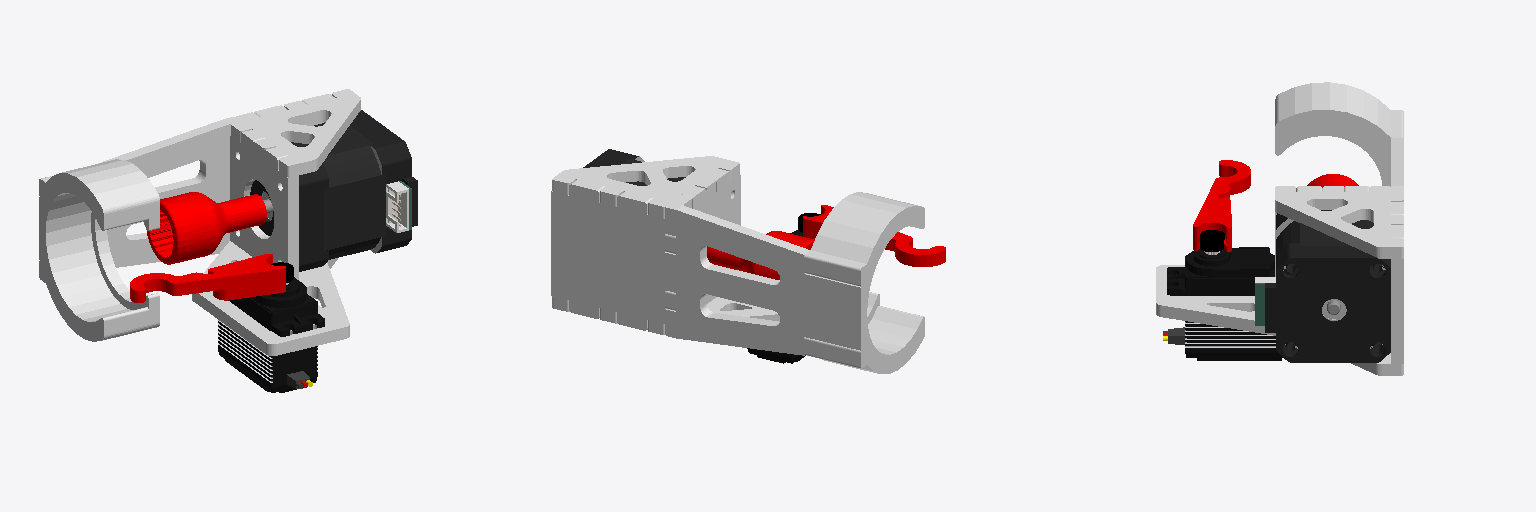
Rendered from combo_cracker.obj.
3 views of the same model, side by side, from view 1: azimuth 30°, elevation 25°; view 2: azimuth 150°, elevation 25°; view 3: azimuth 270°, elevation 25° (orthographic).
Parts seen in each view (by area): view 1: mesh1242, mesh134, mesh845, mesh119, mesh1125, mesh14, mesh170, mesh1070, mesh2, mesh1188, mesh1126, mesh1198 (+17 smaller); view 2: mesh1243, mesh119, mesh2, mesh134, mesh845, mesh9, mesh142, mesh1228, mesh148, mesh1198, mesh137, mesh5 (+3 smaller); view 3: mesh967, mesh119, mesh164, mesh2, mesh14, mesh1198, mesh1213, mesh35, mesh345, mesh98, mesh912, mesh455 (+4 smaller).
Part boxes in pixels (x1,y1,x2,y2): mesh1242: (107, 122, 323, 267); mesh134: (46, 222, 132, 321); mesh845: (230, 132, 287, 262); mesh119: (231, 89, 360, 165); mesh1125: (324, 174, 385, 250); mesh14: (199, 241, 349, 343); mesh170: (160, 192, 214, 263); mesh1070: (299, 180, 328, 264); mesh2: (62, 162, 145, 206); mesh1188: (178, 269, 281, 300); mesh1126: (323, 145, 380, 187); mesh1198: (130, 254, 285, 290); mesh1243: (551, 184, 860, 355); mesh119: (552, 156, 739, 206); mesh2: (822, 195, 921, 263); mesh134: (868, 307, 922, 354); mesh845: (693, 171, 740, 303); mesh9: (861, 206, 924, 307); mesh142: (861, 317, 924, 373); mesh1228: (677, 205, 809, 254); mesh148: (811, 192, 876, 252); mesh1198: (803, 205, 945, 254); mesh137: (816, 342, 860, 366); mesh5: (816, 261, 860, 284); mesh967: (1265, 258, 1390, 362); mesh119: (1275, 186, 1403, 246); mesh164: (1275, 110, 1390, 186); mesh2: (1279, 82, 1390, 131); mesh14: (1156, 265, 1390, 363); mesh1198: (1193, 160, 1250, 228); mesh1213: (1391, 259, 1403, 363); mesh35: (1161, 305, 1275, 335); mesh345: (1187, 279, 1254, 295); mesh98: (1277, 201, 1375, 256); mesh912: (1291, 243, 1376, 257); mesh455: (1187, 353, 1282, 360).
Size of the model in its own units: 0.1305 by 0.0792 by 0.0907.